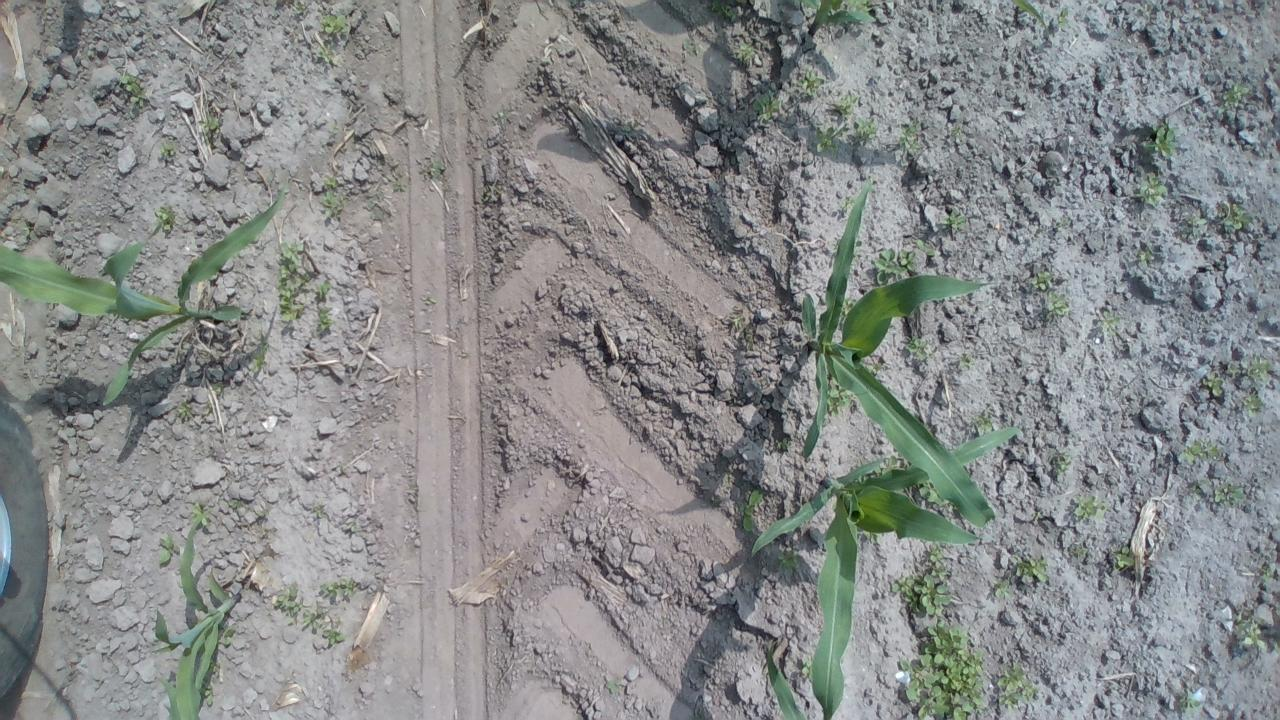Maize: (747, 424, 1025, 719), (0, 170, 304, 412), (796, 180, 1002, 536), (150, 489, 248, 720)
Weeds: (895, 619, 992, 720), (884, 542, 960, 616), (872, 236, 939, 287), (274, 242, 310, 320), (993, 551, 1050, 597), (991, 660, 1040, 710), (1011, 0, 1079, 36), (1222, 354, 1277, 392), (1137, 122, 1181, 164), (1166, 682, 1214, 720), (734, 488, 770, 536), (1217, 196, 1258, 238), (1126, 170, 1168, 209), (318, 172, 349, 221), (1193, 478, 1244, 507), (1233, 612, 1267, 655), (894, 118, 927, 162), (269, 584, 310, 619), (1178, 437, 1225, 467), (316, 578, 364, 606), (730, 308, 761, 351), (1110, 544, 1147, 580), (824, 380, 860, 416), (1216, 80, 1252, 114), (377, 154, 408, 193), (197, 658, 220, 710), (1068, 493, 1106, 523), (750, 89, 782, 124), (901, 336, 938, 366), (359, 188, 388, 226), (150, 534, 182, 568), (970, 402, 1002, 436), (1234, 388, 1268, 420), (1038, 292, 1074, 322), (934, 208, 970, 238), (810, 122, 844, 153), (317, 12, 349, 44), (793, 67, 824, 100), (1098, 308, 1128, 342), (1197, 371, 1228, 402), (415, 153, 445, 185), (198, 110, 226, 144), (118, 73, 148, 104), (776, 546, 804, 578), (186, 502, 214, 534), (151, 203, 178, 236), (1048, 452, 1076, 483), (312, 307, 336, 343), (315, 118, 343, 148), (1182, 214, 1216, 238), (304, 607, 332, 636), (829, 93, 860, 118), (770, 430, 796, 458), (1026, 264, 1052, 292), (310, 44, 340, 68), (954, 347, 979, 375), (852, 117, 879, 142), (736, 43, 760, 71), (679, 32, 704, 58), (245, 342, 268, 370), (312, 278, 335, 306), (154, 139, 176, 168), (712, 1, 742, 22), (171, 400, 195, 426), (489, 106, 515, 128), (322, 625, 346, 648), (799, 654, 817, 684), (600, 674, 626, 694), (308, 496, 328, 521), (945, 122, 965, 146), (1258, 564, 1274, 594), (1135, 241, 1154, 265), (1068, 538, 1086, 558), (418, 290, 436, 310), (479, 186, 498, 204), (224, 495, 242, 512), (254, 506, 270, 523)
